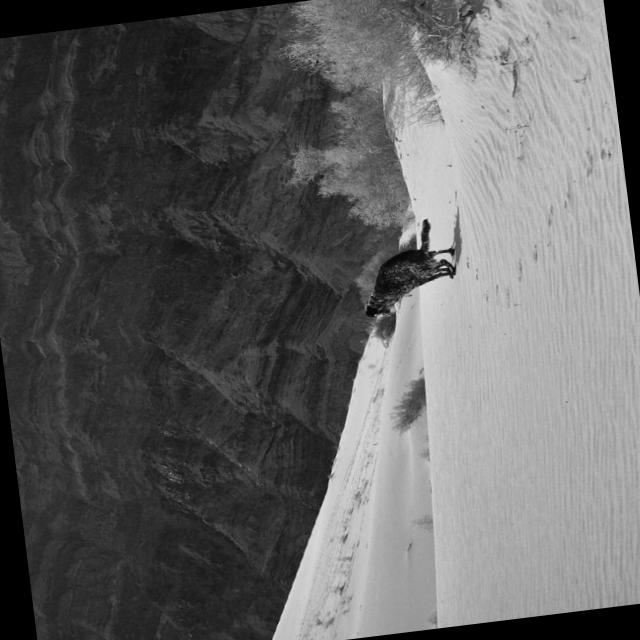squatting: (348, 212, 466, 329)
